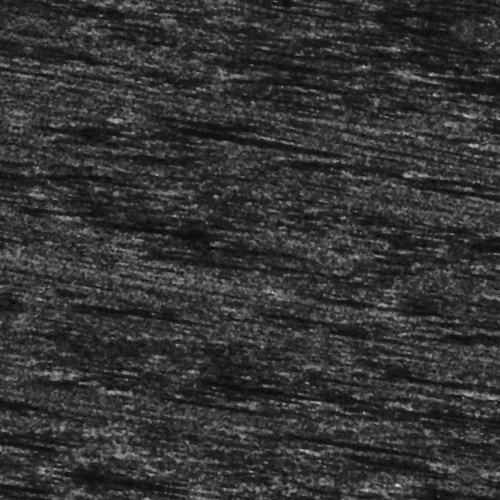object: (401, 44, 494, 53), (113, 404, 218, 411), (450, 103, 500, 114), (113, 136, 176, 143), (244, 422, 327, 427), (416, 79, 479, 84)
shadow: (145, 136, 319, 143), (286, 422, 446, 427), (166, 404, 278, 411), (447, 44, 500, 53), (447, 79, 500, 84)
